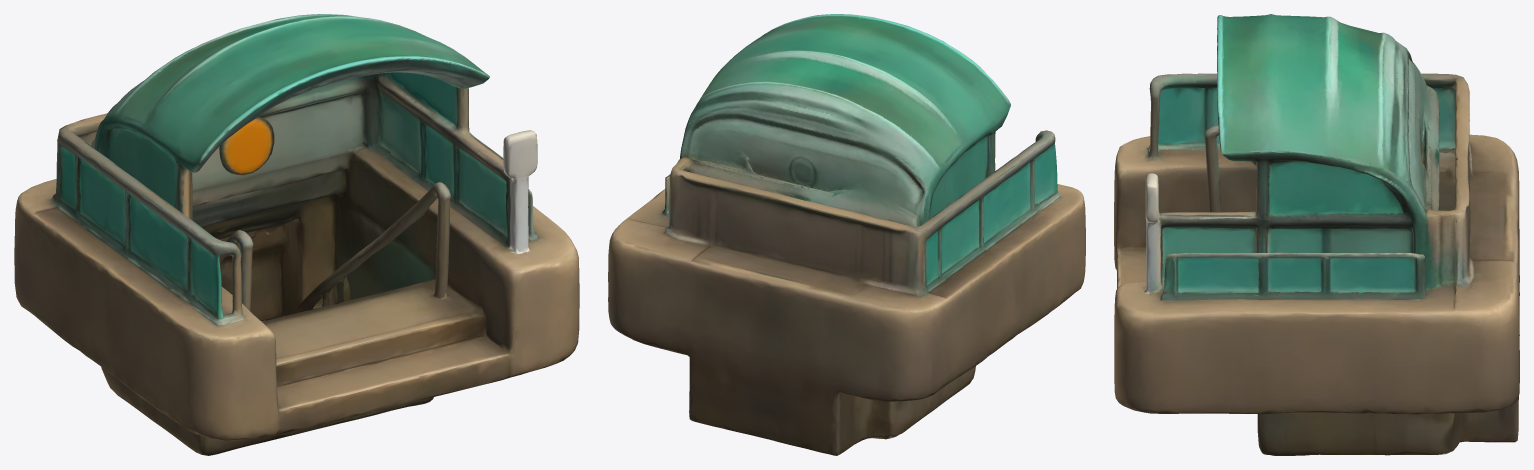
File: bb_mrt.glb
3 renders of one model, left to right at view 1: azimuth 30°, elevation 25°; view 2: azimuth 150°, elevation 25°; view 3: azimuth 270°, elevation 25°, orthographic. The views are drawn at different scales.
Size of the model in its own units: 1 by 0.9363 by 0.9396.
Materials: 1 (1 with a texture image).
